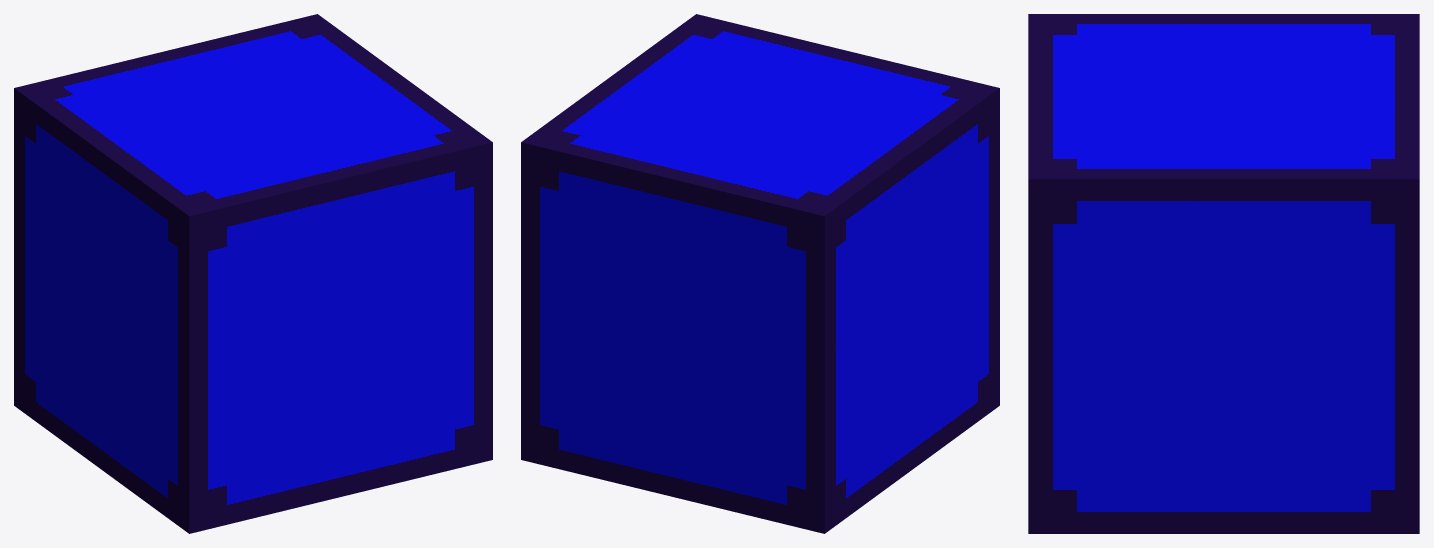
The model's file is 0_blue.obj.
3 views of the same model, side by side, from view 1: azimuth 30°, elevation 25°; view 2: azimuth 150°, elevation 25°; view 3: azimuth 270°, elevation 25° (orthographic). The views are drawn at different scales.
Visible parts, largest first — view 1: 0_blue; view 2: 0_blue; view 3: 0_blue.
Boxes of the visible parts, x1,y1,x2,y2 form: 0_blue: [14, 14, 492, 533]; 0_blue: [521, 14, 999, 533]; 0_blue: [1028, 14, 1419, 533].
Size of the model in its own units: 1 by 1 by 1.
1 material, 1 textured.
